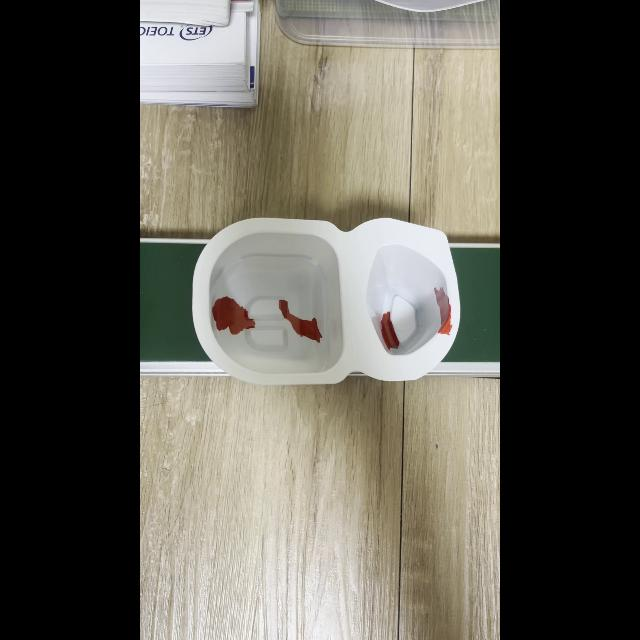dirty: (196, 236, 457, 370)
